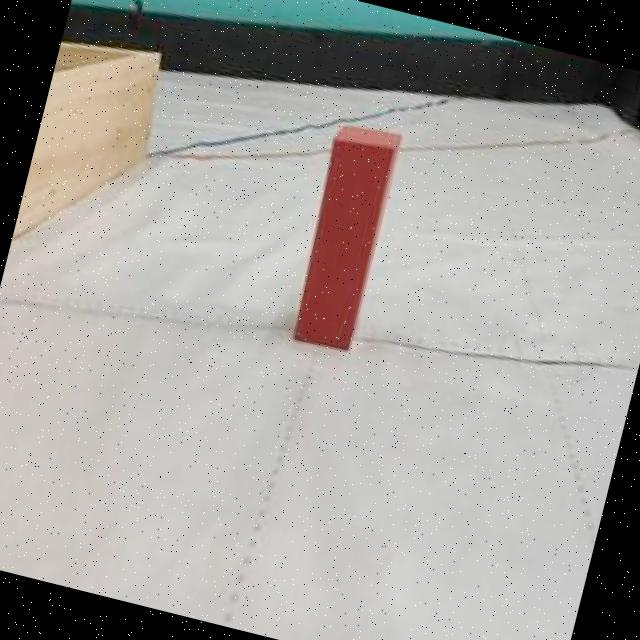redbox: (282, 110, 404, 354)
